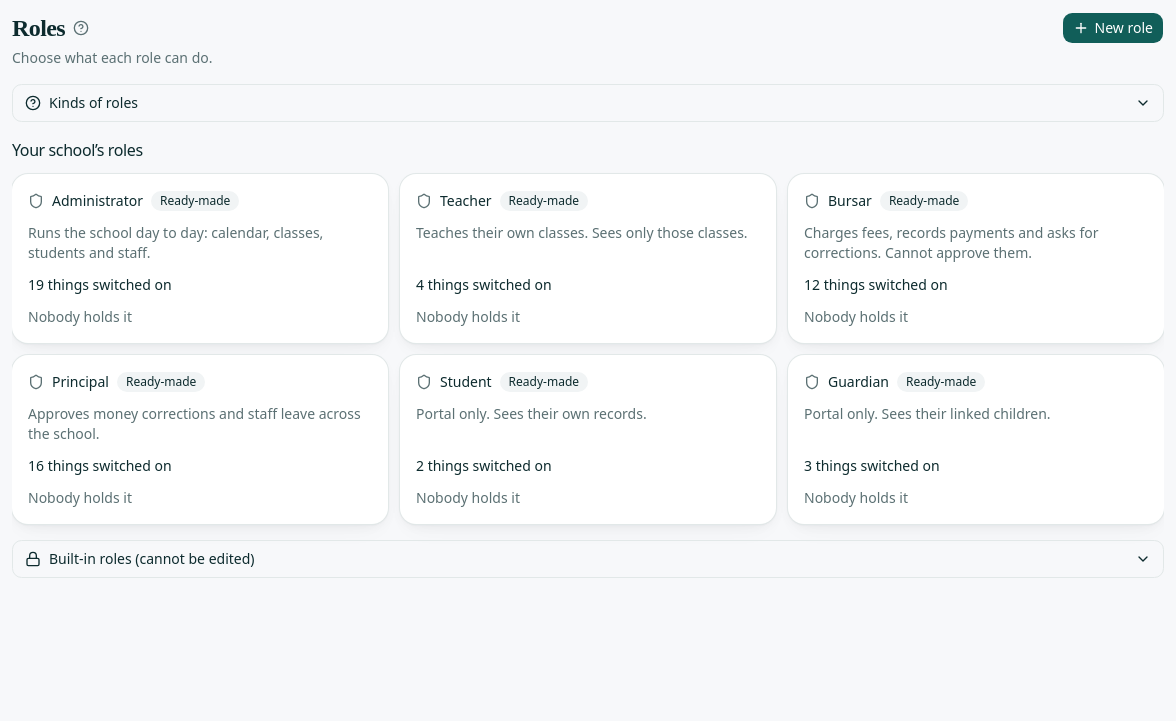
Test: RolesPage › lists Owner and Member under the built-in disclosure
Expected: the element "Your school’s roles" is shown, left=12, top=138, right=1164, bottom=524
Click the button "Built-in roles (cannot be edited)" at (152, 558), box left=13, top=541, right=1163, bottom=577
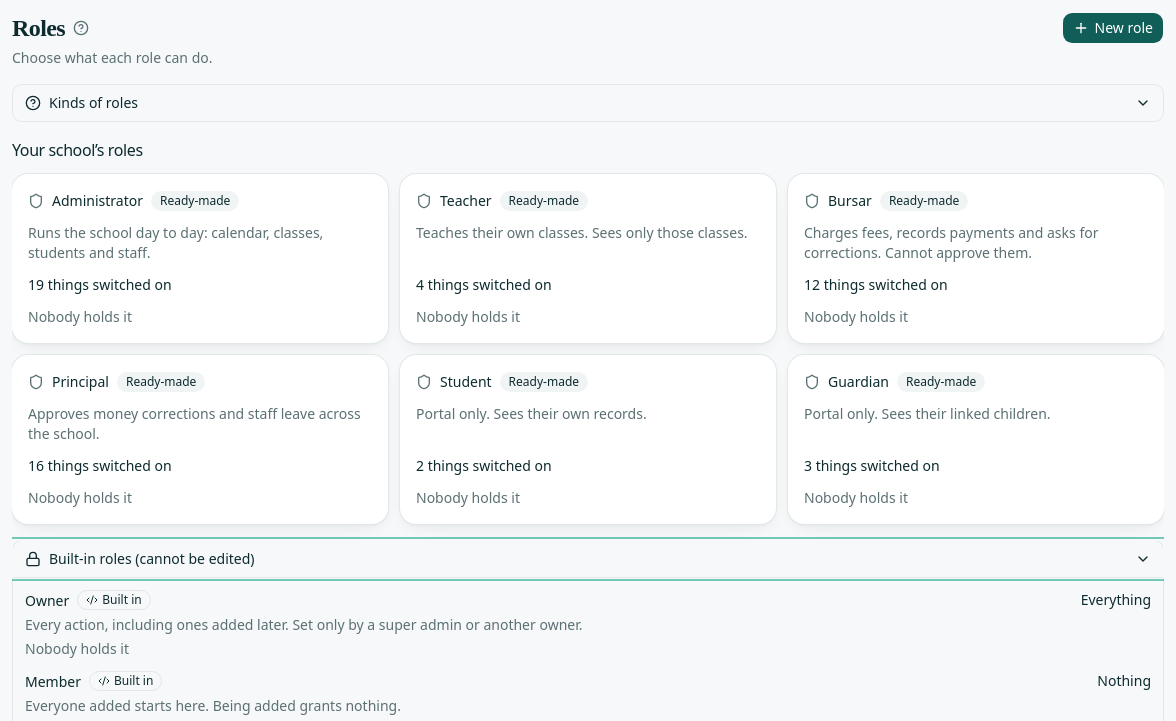
Result: the text "Every action, including ones added later. Set only by a super admin or another owner." is shown at left=25, top=615, right=582, bottom=634
Result: the text "Everyone added starts here. Being added grants nothing." is shown at left=25, top=696, right=401, bottom=716
Result: the text "Everything" is shown at left=1081, top=590, right=1151, bottom=610
